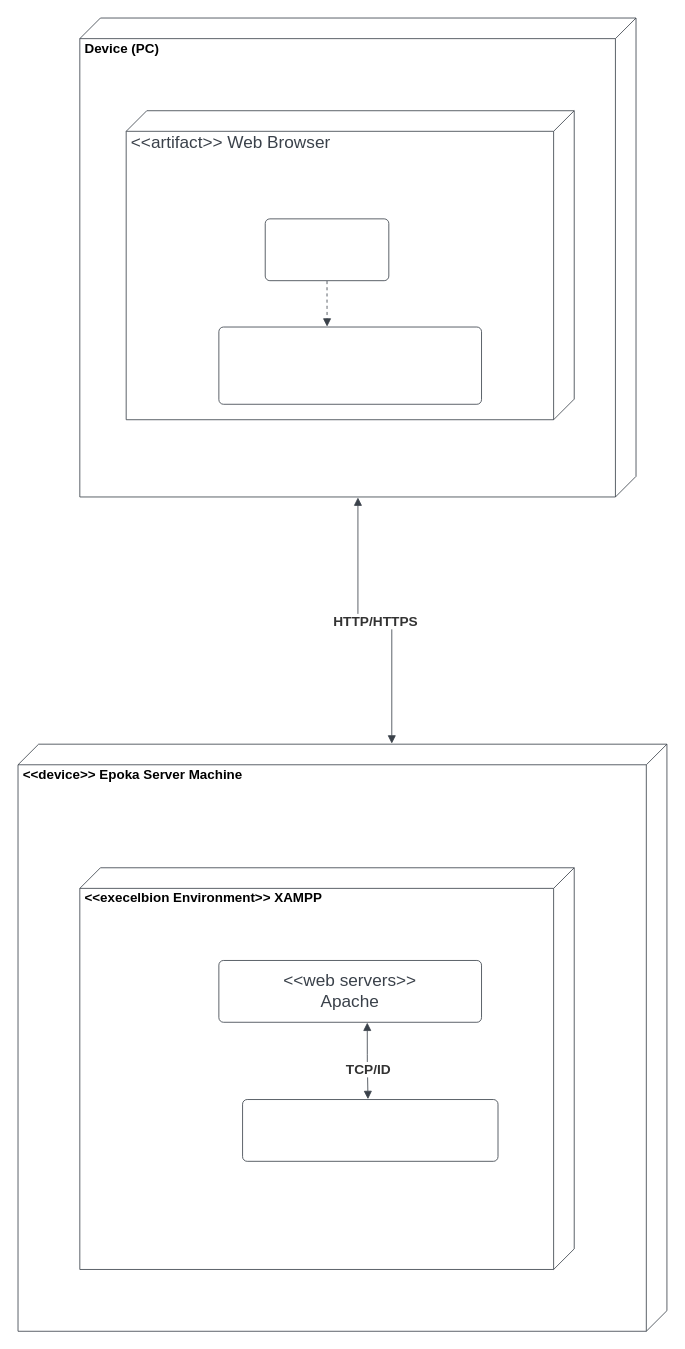
Some shapes in this 685 by 1349 pixel diagram are drawn without their labels. Here are the shapes that lost their labels. From the top down, the centre of each, then its label:
At point 326,249: "<<interface>> Gui".
At point 349,365: "<<data>> Session and cookies Data recieved from server".
At point 370,1130: "<<db server>> MySQL".
